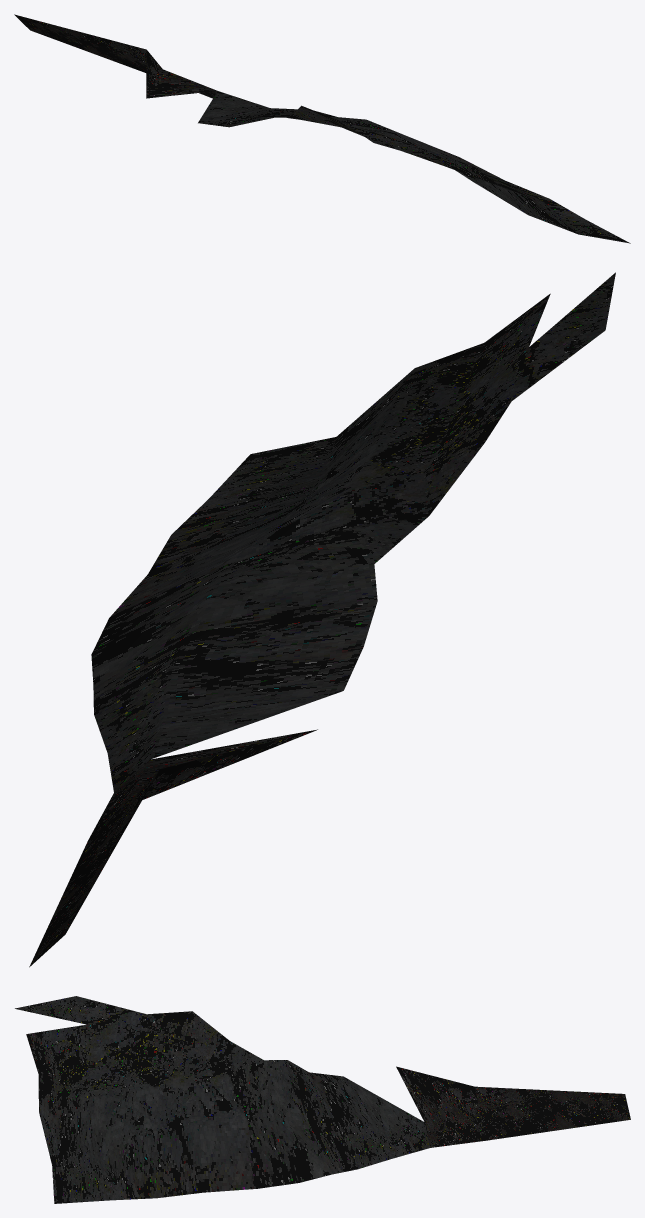
The model's file is cell_17_-7.gltf.
3 views of the same model, one above another, from view 1: azimuth 30°, elevation 25°; view 2: azimuth 150°, elevation 25°; view 3: azimuth 270°, elevation 25° (orthographic). The views are drawn at different scales.
Parts seen in each view (by area): view 1: cell_17_-7; view 2: cell_17_-7; view 3: cell_17_-7.
Part boxes in pixels (left/top/right/bottom): cell_17_-7: left=14, top=14, right=630, bottom=243; cell_17_-7: left=29, top=272, right=615, bottom=967; cell_17_-7: left=15, top=996, right=630, bottom=1203.
Bounding box in the file's own units: 55.95 × 30.87 × 146.
Materials: 2 (2 with a texture image).
